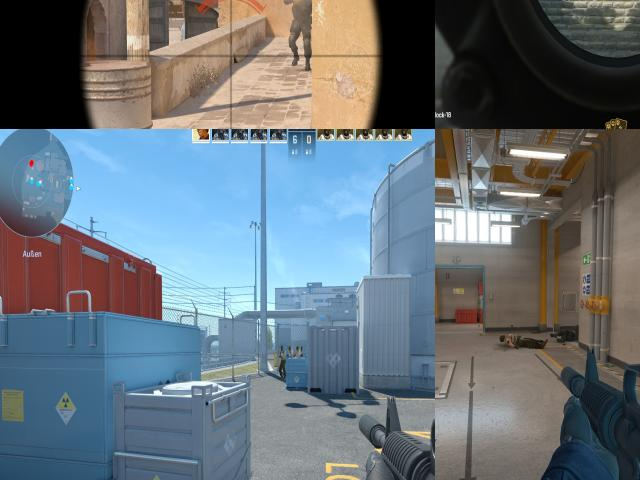CT: (289, 0, 310, 61)
Dead: (500, 330, 546, 352), (554, 328, 580, 343)
T: (280, 346, 286, 376), (288, 346, 294, 358), (296, 346, 302, 357)
T-Head: (280, 346, 284, 352), (288, 347, 292, 351), (296, 346, 300, 350)
